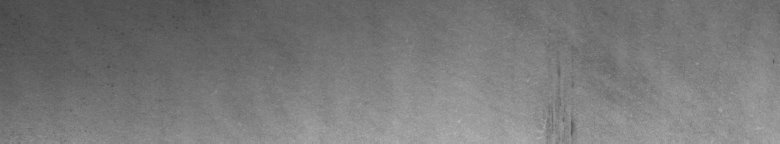ka: (544, 66, 580, 136)
